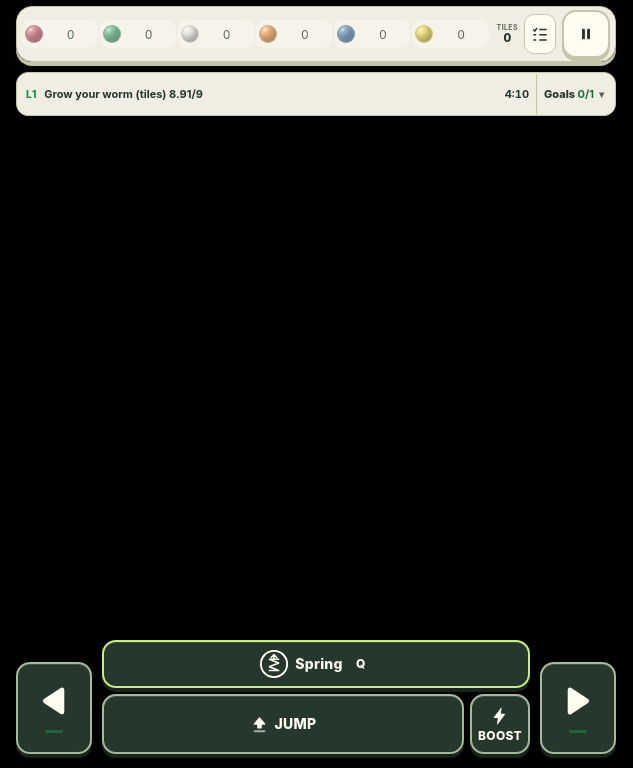
Test case: minimizes the story row and keeps fractional tile goals exact when restored
The image size is (633, 768).
Expected: the text with class "worm-story-next" shows "8.91/9", [44,87,203,101]
Click the button named "Minimize quests": (540, 34) [524,14,556,54]
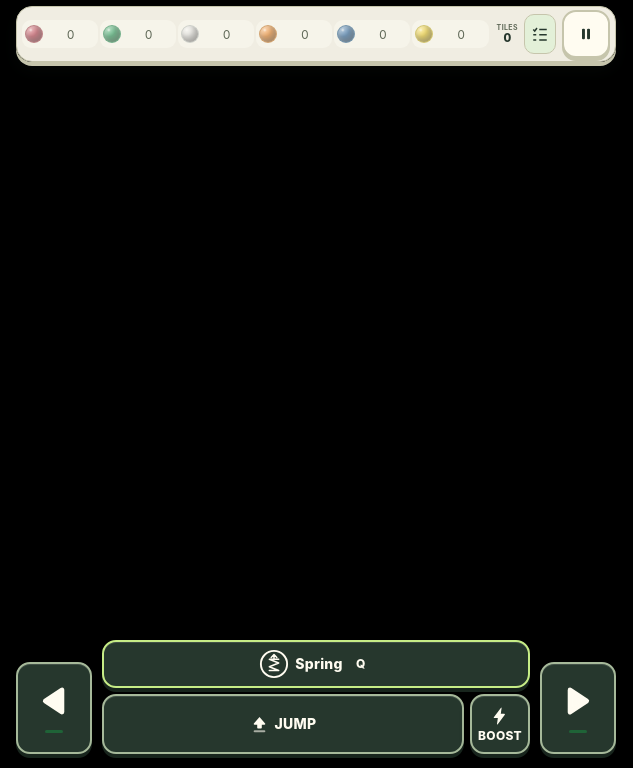
Now the element with class "worm-story-tracker" is gone
Click the button named "Minimize quests": (540, 34) [524,14,556,54]
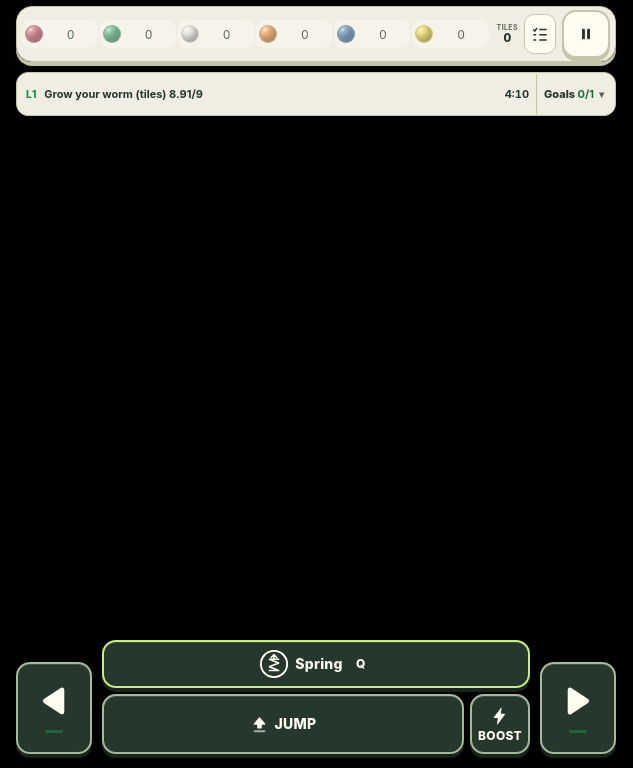
Click the button with class "worm-story-glance": (574, 94) [536,74,611,114]
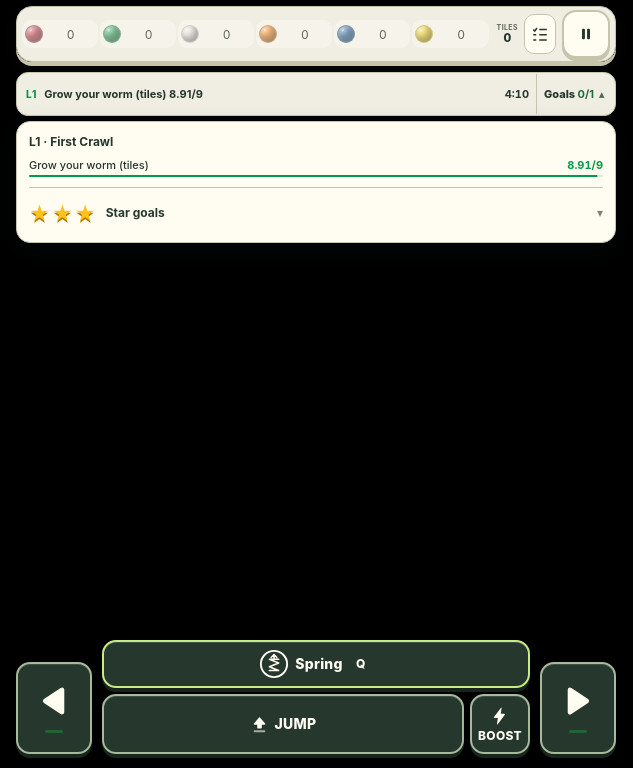
Now the list item "Grow your worm (tiles) 8.91/9" is shown, box [29,159,603,177]
